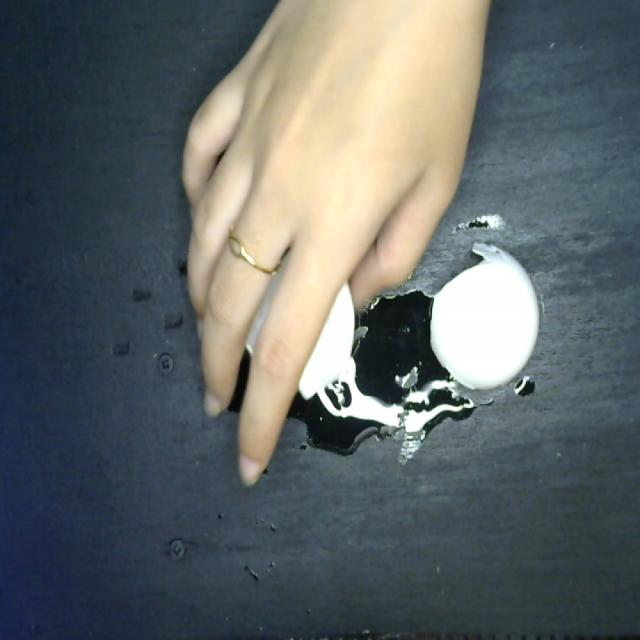biodegradable: (429, 236, 544, 401)
